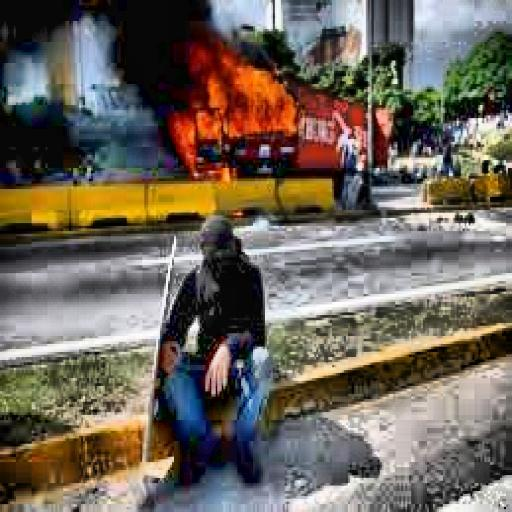fire: (170, 45, 302, 189)
